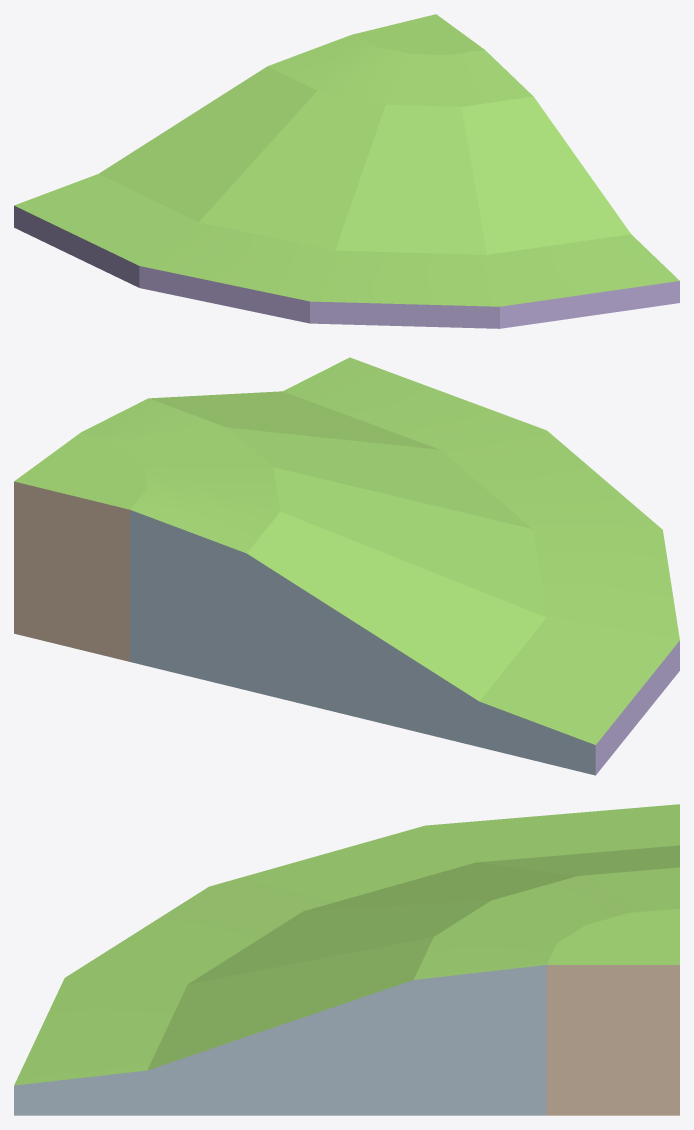
Rendered from Grass_Hill_Gentle_Curve_Outer_4x4.glb.
The picture shows the model from 3 angles, top to bottom: view 1: azimuth 30°, elevation 25°; view 2: azimuth 150°, elevation 25°; view 3: azimuth 270°, elevation 25°; orthographic projection. The views are drawn at different scales.
Parts seen in each view (by area): view 1: Grass_Hill_Gentle_Curve_Outer_4x4; view 2: Grass_Hill_Gentle_Curve_Outer_4x4; view 3: Grass_Hill_Gentle_Curve_Outer_4x4.
Part boxes in pixels (left/top/right/bottom): Grass_Hill_Gentle_Curve_Outer_4x4: left=14, top=14, right=679, bottom=328; Grass_Hill_Gentle_Curve_Outer_4x4: left=14, top=357, right=679, bottom=775; Grass_Hill_Gentle_Curve_Outer_4x4: left=14, top=804, right=679, bottom=1115.
Size of the model in its own units: 500 by 125 by 500.
